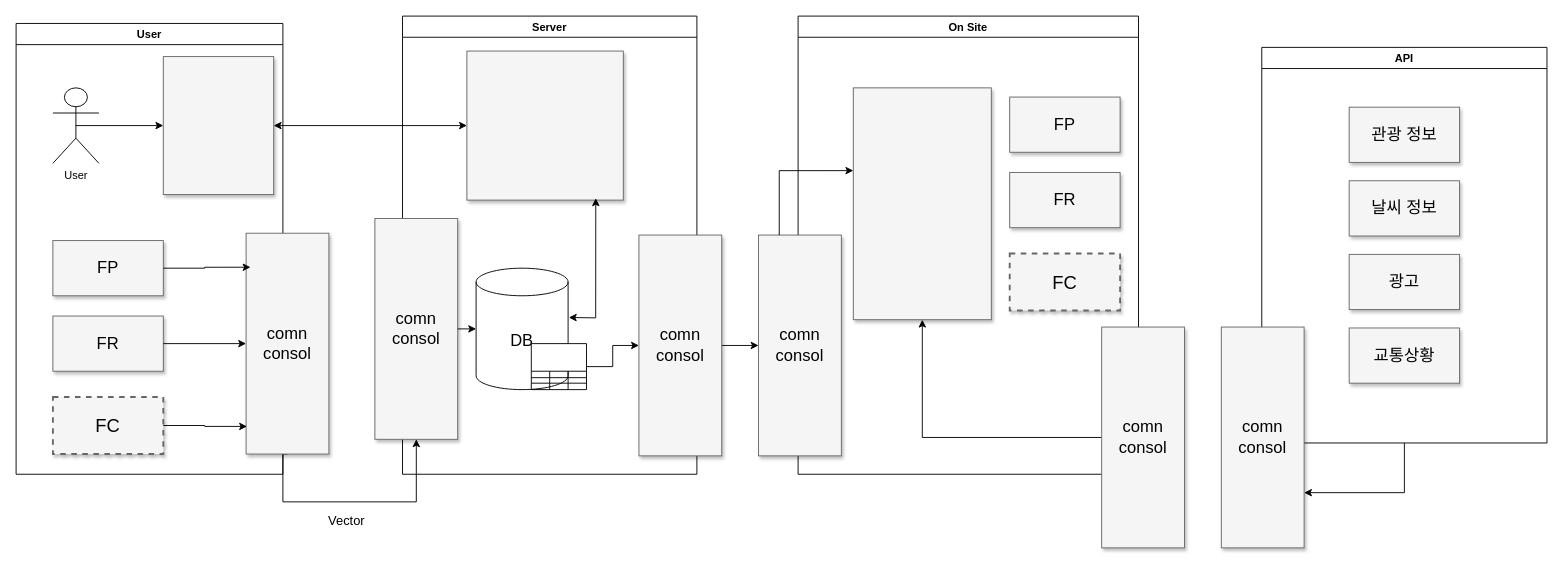
Some shapes in this 1563 by 570 pixel diagram are drawn without their labels. The centre of each missing label's shape, as x and y in pixels:
"Display App" goes at pixel 923 204.
"Table" goes at pixel 558 366.
"Web Client" goes at pixel 219 126.
"Web Server" goes at pixel 545 126.
